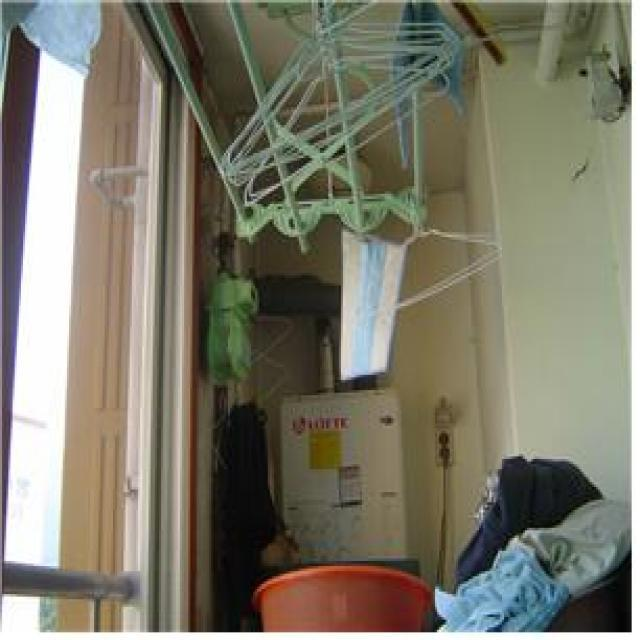Boiler: (268, 370, 427, 620)
